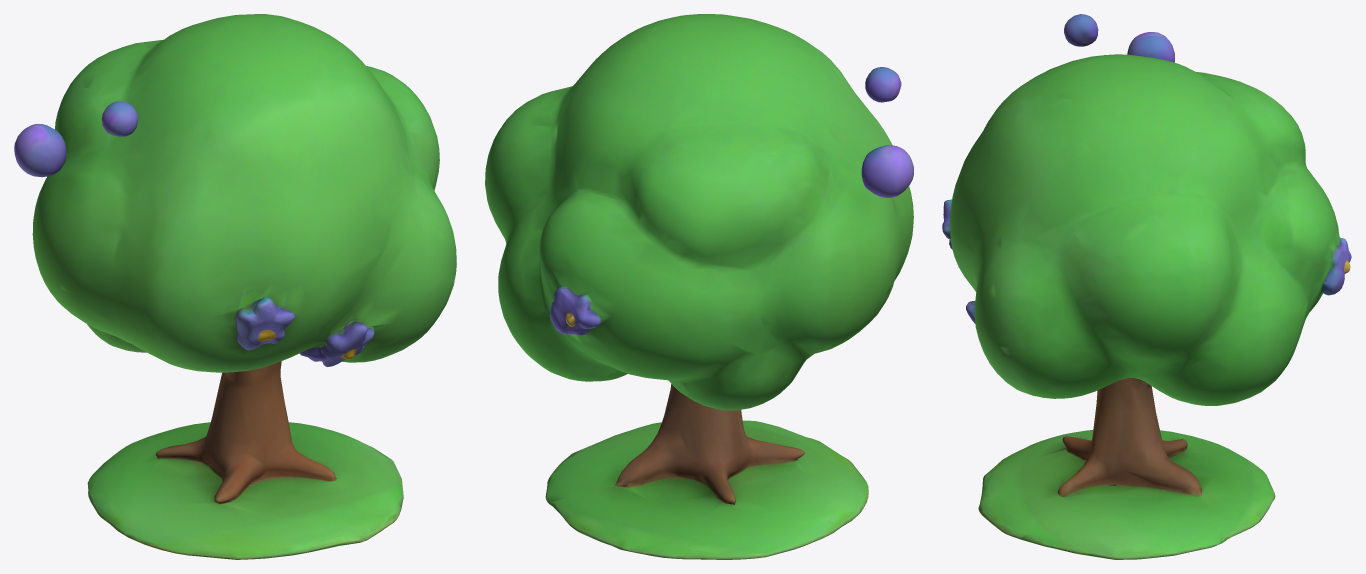
Rendered from Tree_Classic.glb.
3 views of the same model, side by side, from view 1: azimuth 30°, elevation 25°; view 2: azimuth 150°, elevation 25°; view 3: azimuth 270°, elevation 25° (orthographic). The views are drawn at different scales.
Bounding box in the file's own units: 1.86 × 2 × 1.73.
Materials: 1 (1 with a texture image).
